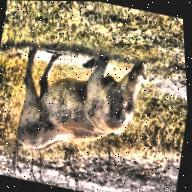boar: (9, 30, 164, 180)
